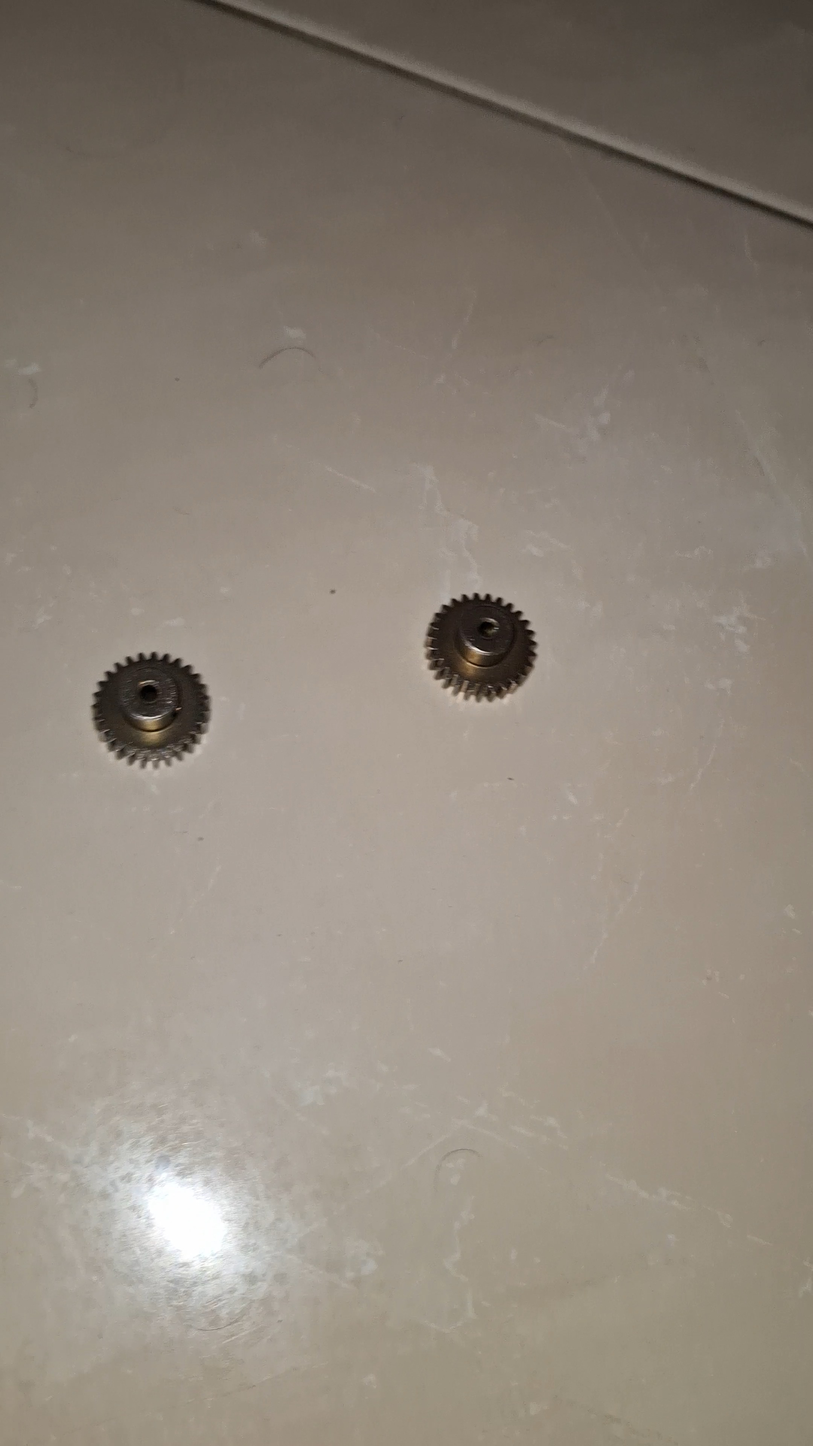spur gear: (69, 654, 186, 769), (404, 590, 514, 697)
